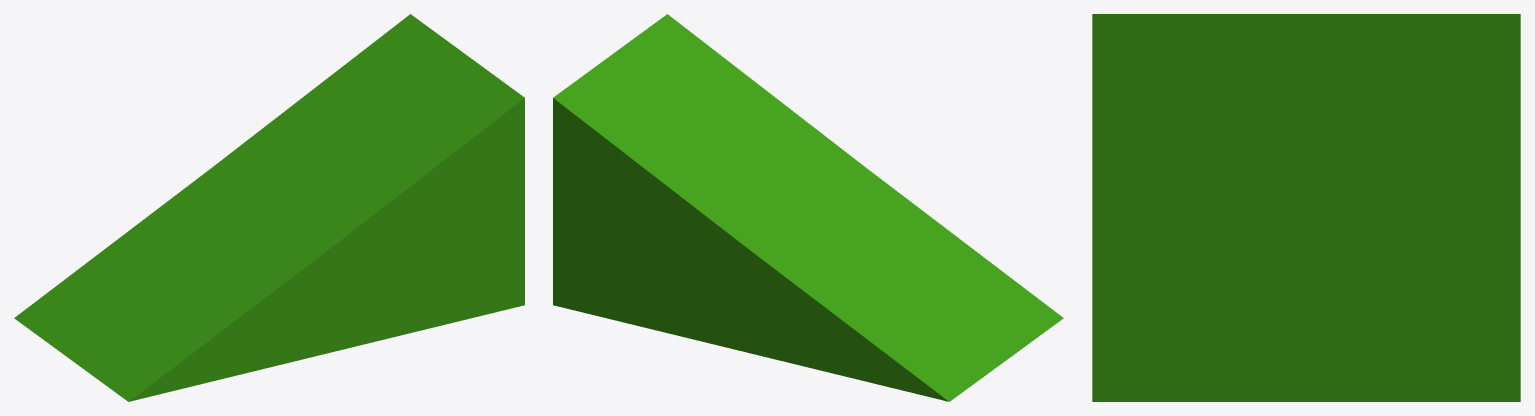
The model's file is BasicSlope.fbx.
3 renders of one model, left to right at view 1: azimuth 30°, elevation 25°; view 2: azimuth 150°, elevation 25°; view 3: azimuth 270°, elevation 25°, orthographic. The views are drawn at different scales.
Visible parts, largest first — view 1: BasicSlope; view 2: BasicSlope; view 3: BasicSlope.
Part boxes in pixels (x1,y1,x2,y2): BasicSlope: (14, 14, 524, 401); BasicSlope: (553, 14, 1063, 401); BasicSlope: (1092, 14, 1520, 401).
Size of the model in its own units: 79 by 39.5 by 39.5.
